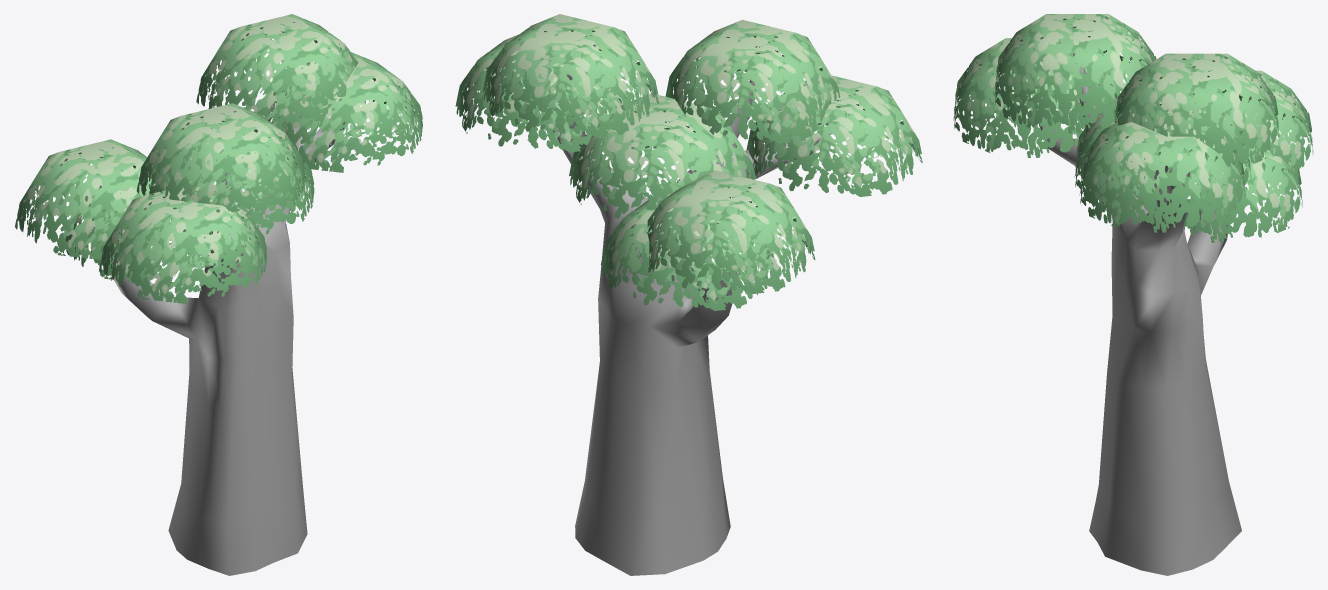
File: tree2.fbx
3 views of the same model, side by side, from view 1: azimuth 30°, elevation 25°; view 2: azimuth 150°, elevation 25°; view 3: azimuth 270°, elevation 25° (orthographic). The views are drawn at different scales.
Parts seen in each view (by area): view 1: Crown, Base; view 2: Crown, Base; view 3: Crown, Base.
Boxes of the visible parts, x1,y1,x2,y2 form: Crown: (15,14,422,303); Base: (100,60,345,575); Crown: (455,14,922,310); Base: (541,74,837,575); Crown: (953,14,1313,242); Base: (1039,52,1241,575).
Size of the model in its own units: 1250 by 1626 by 1056.
